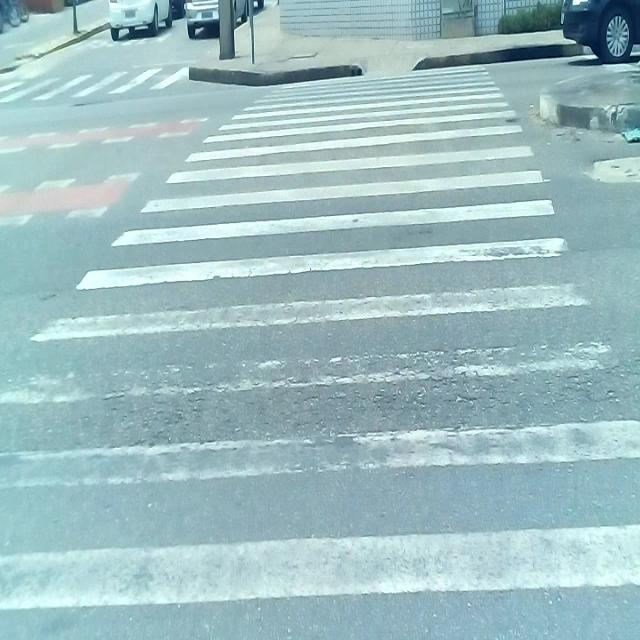crosswalk: (0, 63, 640, 640)
